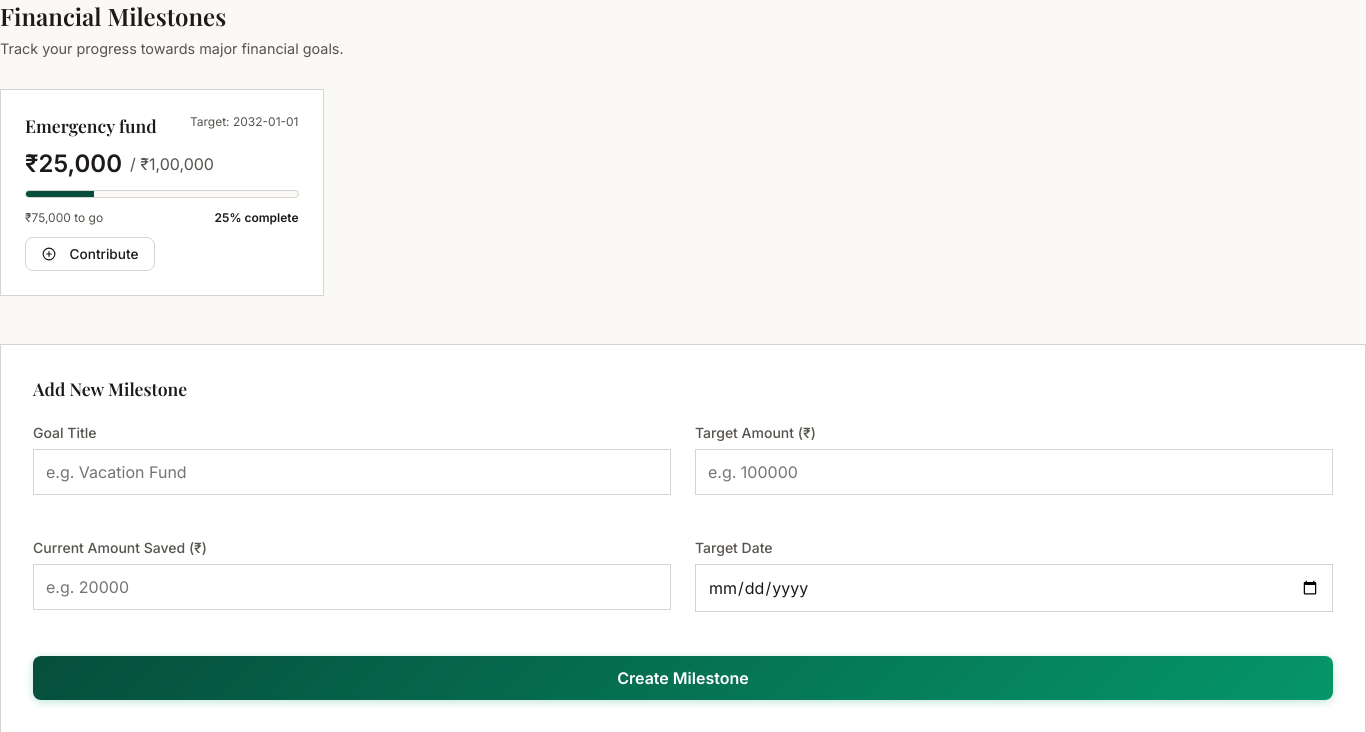
it: Milestones page › contribution flow › a successful contribution refetches, converts to paise, and persists the exact canonical shape
The width and height of the screenshot is (1366, 732).
expect the heading "Emergency fund" is shown: met, box [25,114,157,137]
Click the button "Contribute" at {"x": 90, "y": 254}, box [25,237,155,271]
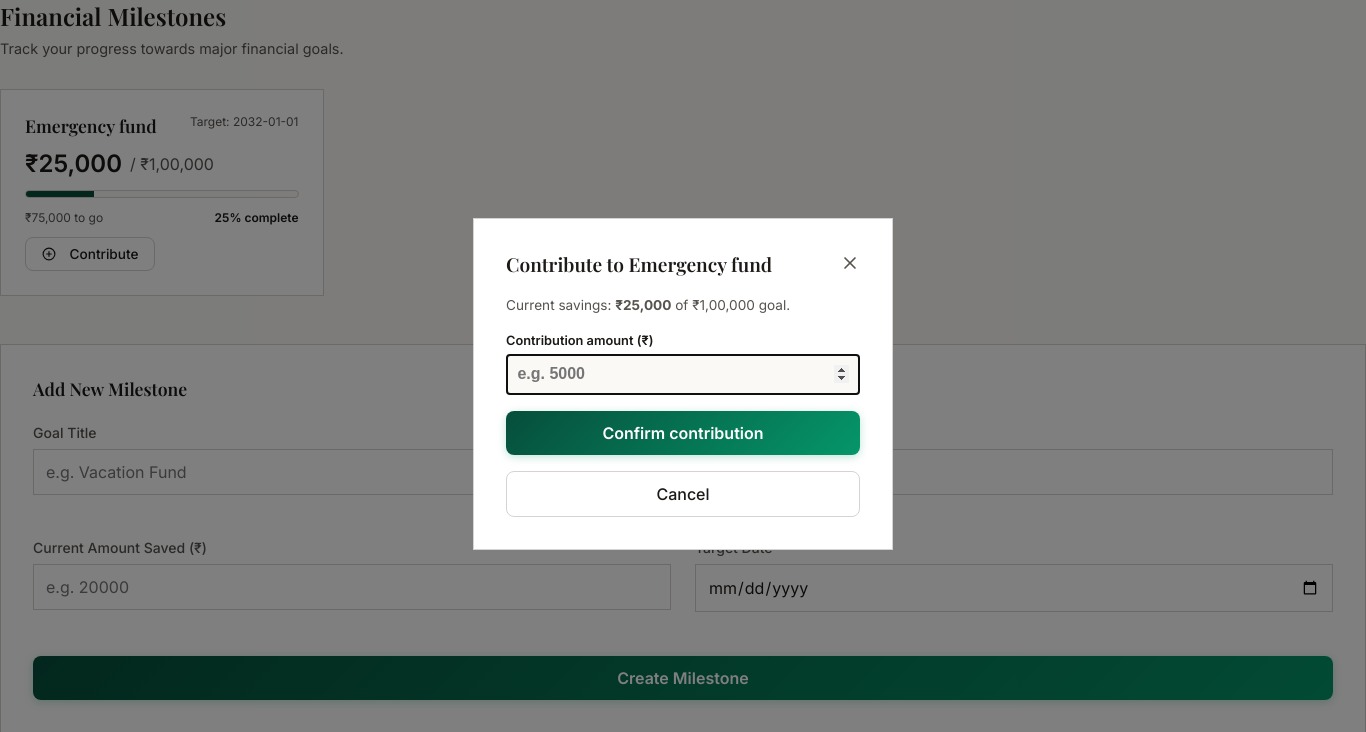
Type "5000" into the number field labelled "Contribution amount (₹)" at {"x": 683, "y": 374}, box [506,354,860,395]
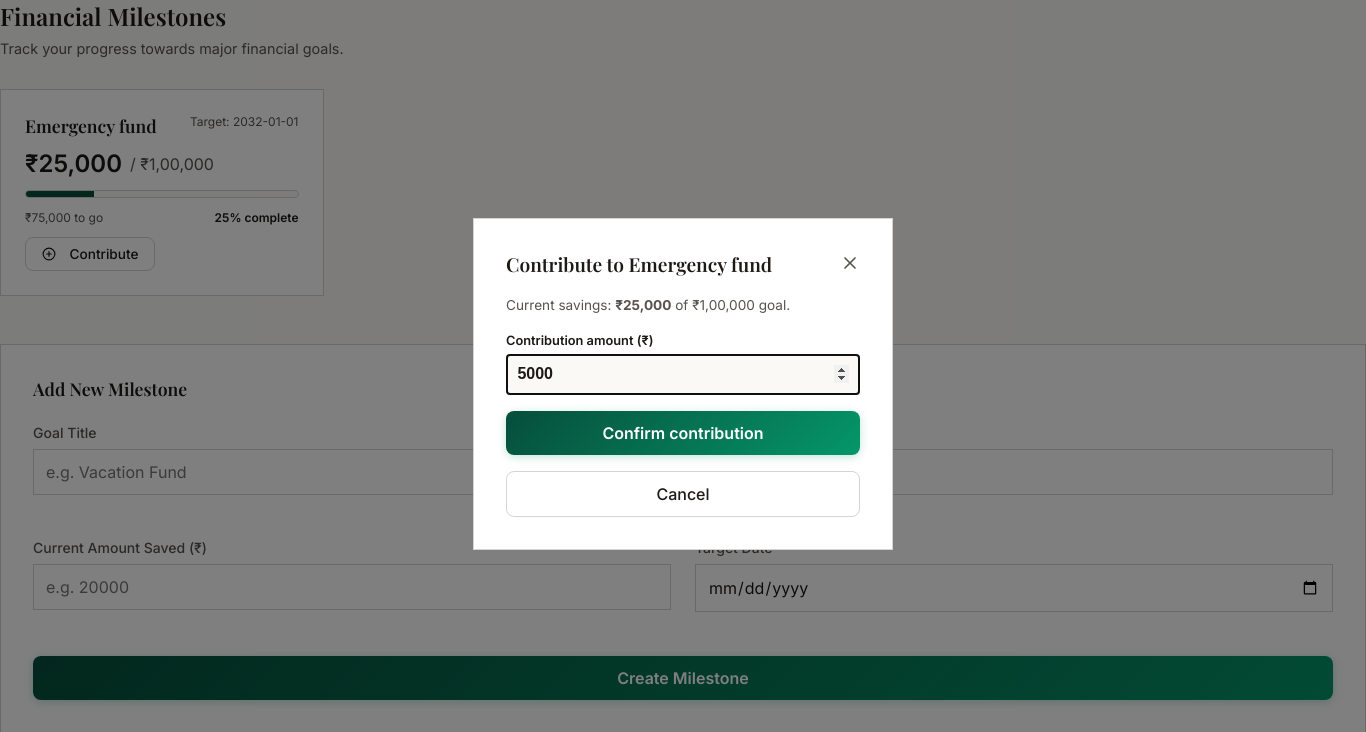
Click the button "Confirm contribution" at {"x": 683, "y": 433}, box [506,411,860,455]
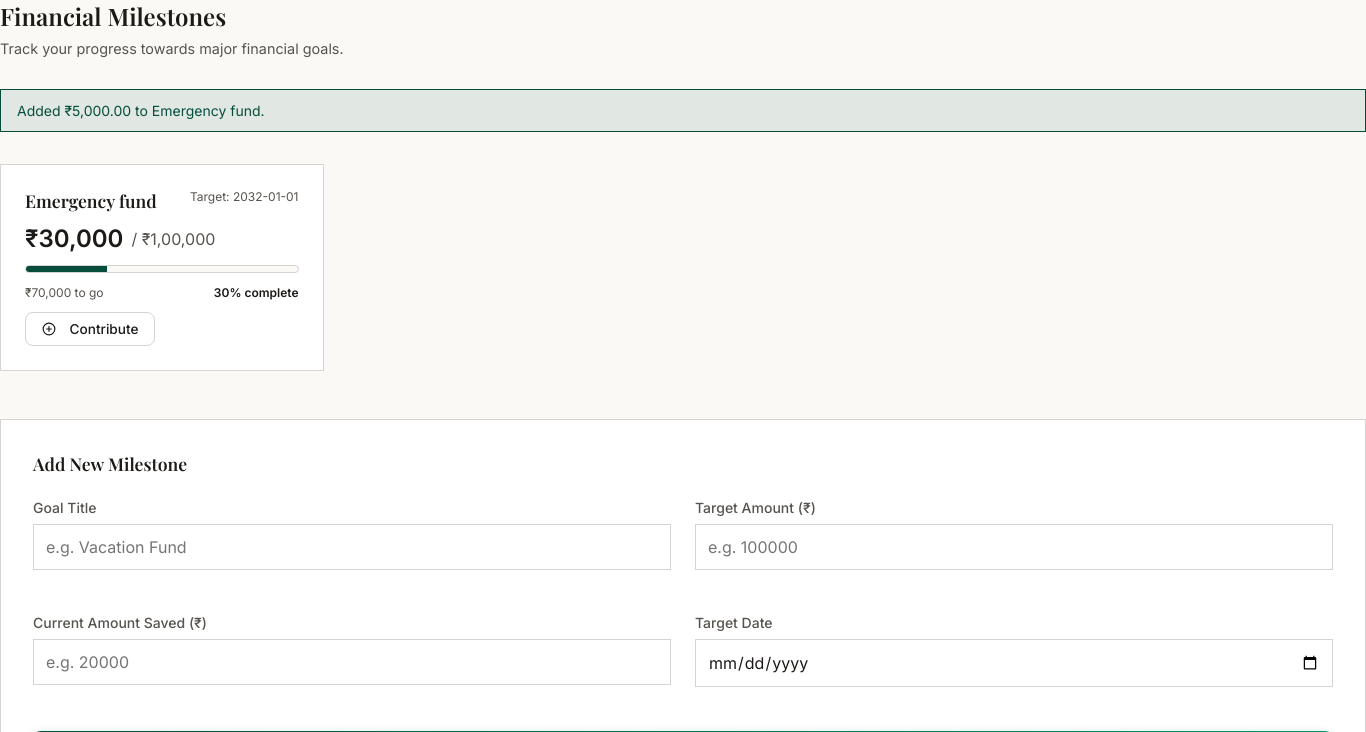
expect the text "Added ₹5,000.00 to Emergency fund." is shown: met, box [0,89,1365,132]
